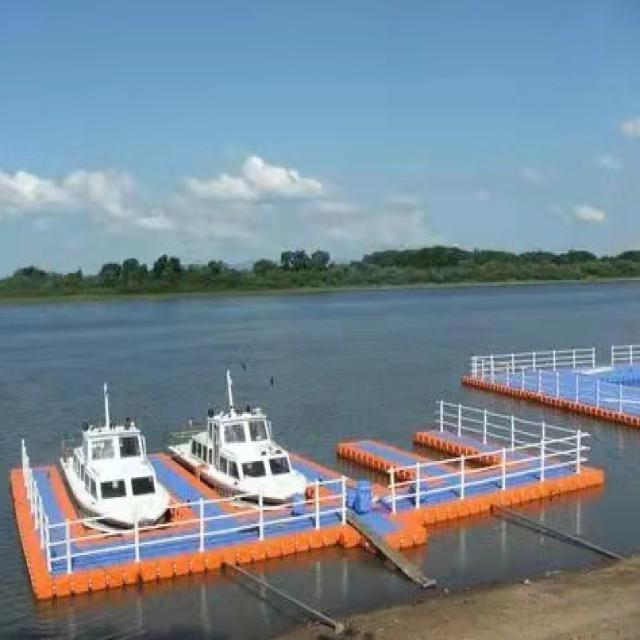houseboat: (182, 390, 312, 500), (61, 404, 177, 516)
